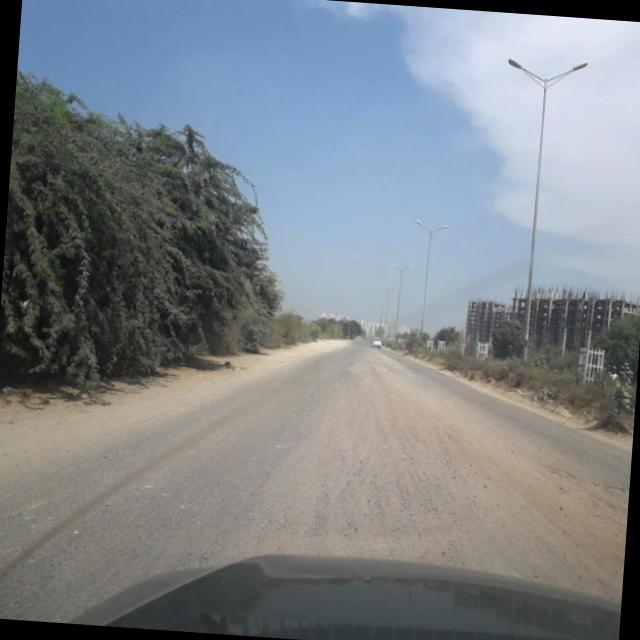crack: (0, 457, 226, 628)
pothole: (306, 401, 632, 575), (534, 448, 584, 487), (586, 470, 629, 506)
